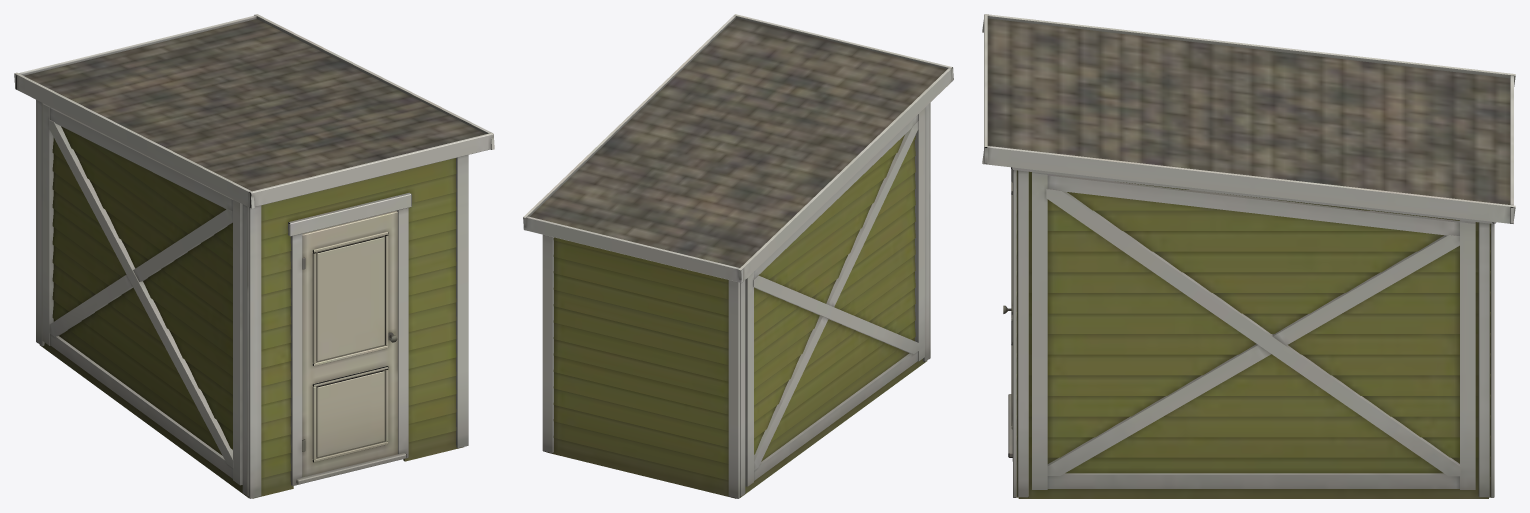
File: shed_yellow-low.glb
3 views of the same model, side by side, from view 1: azimuth 30°, elevation 25°; view 2: azimuth 150°, elevation 25°; view 3: azimuth 270°, elevation 25° (orthographic). The views are drawn at different scales.
Visible parts, largest first — view 1: shed_yellow; view 2: shed_yellow; view 3: shed_yellow.
Part boxes in pixels (x1,y1,x2,y2): shed_yellow: (14,14,494,498); shed_yellow: (523,14,953,498); shed_yellow: (982,14,1515,498).
Bounding box in the file's own units: 2.01 × 2.53 × 3.4.
Materials: 3 (3 with a texture image).
